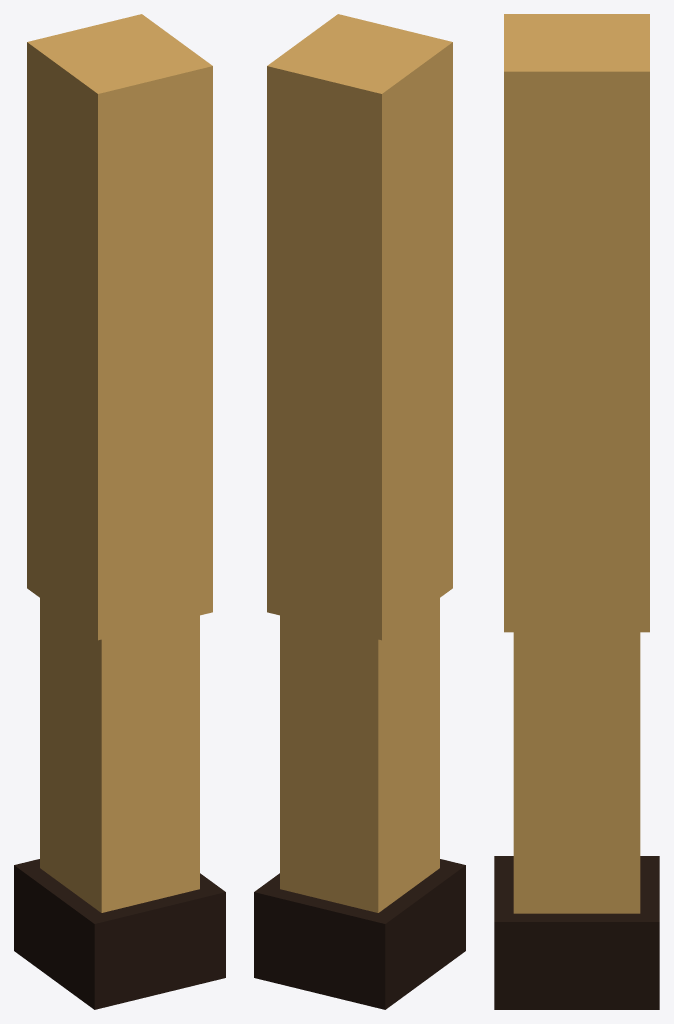
File: carreta_leg_bayo.obj
3 views of the same model, side by side, from view 1: azimuth 30°, elevation 25°; view 2: azimuth 150°, elevation 25°; view 3: azimuth 270°, elevation 25° (orthographic). The views are drawn at different scales.
Parts seen in each view (by area): view 1: carreta_leg_bayo; view 2: carreta_leg_bayo; view 3: carreta_leg_bayo.
Boxes of the visible parts, box(x1,y1,x2,y2) form: carreta_leg_bayo: box(14, 14, 225, 1009); carreta_leg_bayo: box(254, 14, 465, 1009); carreta_leg_bayo: box(494, 14, 659, 1009).
Bounding box in the file's own units: 0.1568 × 1.04 × 0.1666.
